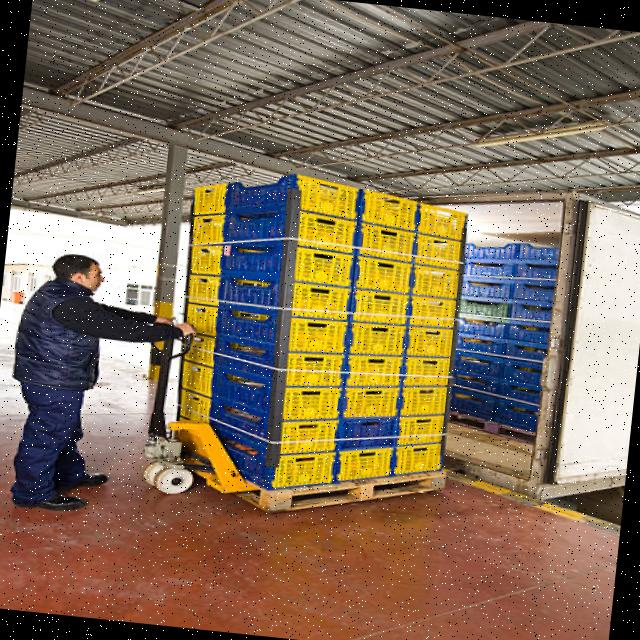Wooden-Pallets: (255, 466, 452, 517)
